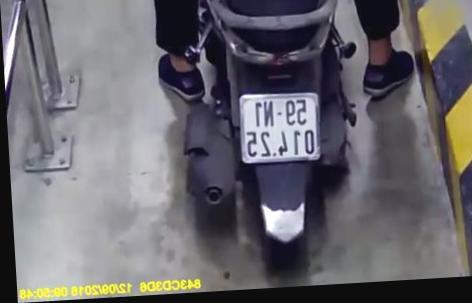License_Plate: (225, 88, 333, 169)
